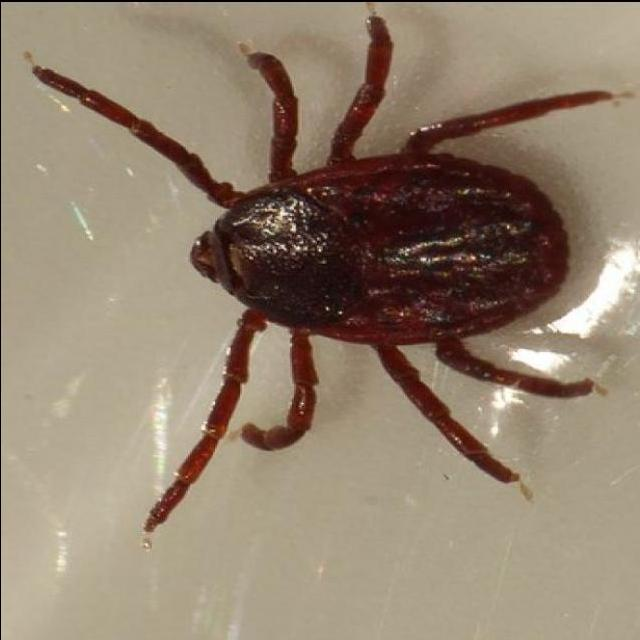Rhipicephalus Sanguineus-F: (33, 14, 620, 546)
